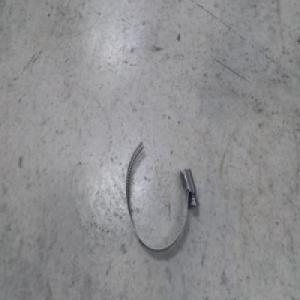AdjustableClamp: (124, 135, 198, 250)
